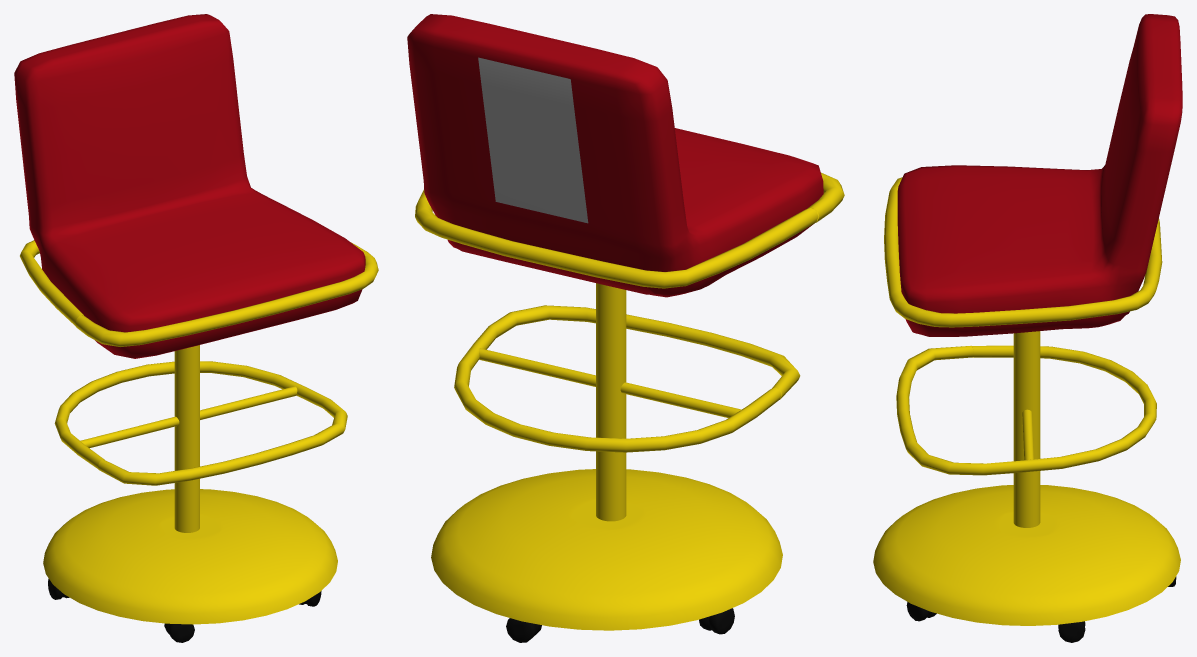
Rendered from Chair.fbx.
3 views of the same model, side by side, from view 1: azimuth 30°, elevation 25°; view 2: azimuth 150°, elevation 25°; view 3: azimuth 270°, elevation 25° (orthographic). The views are drawn at different scales.
Parts seen in each view (by area): view 1: Chair; view 2: Chair; view 3: Chair.
Boxes of the visible parts, <box> form: Chair: <box>14,14,378,642</box>; Chair: <box>407,14,844,642</box>; Chair: <box>873,14,1182,642</box>.
Bounding box in the file's own units: 65.73 × 109 × 58.28.
